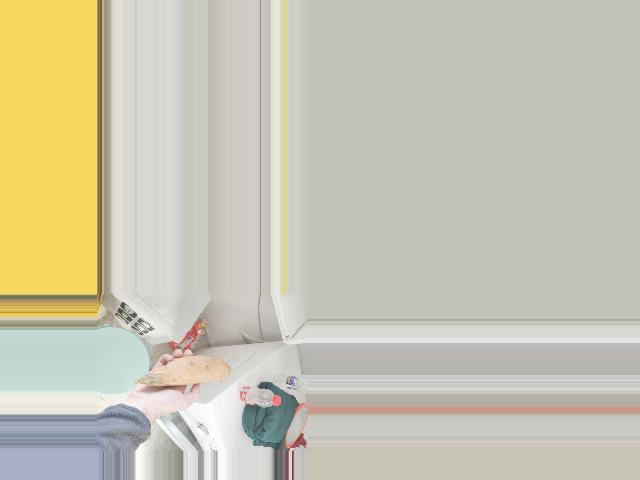sweet_potato: (144, 355, 221, 388)
